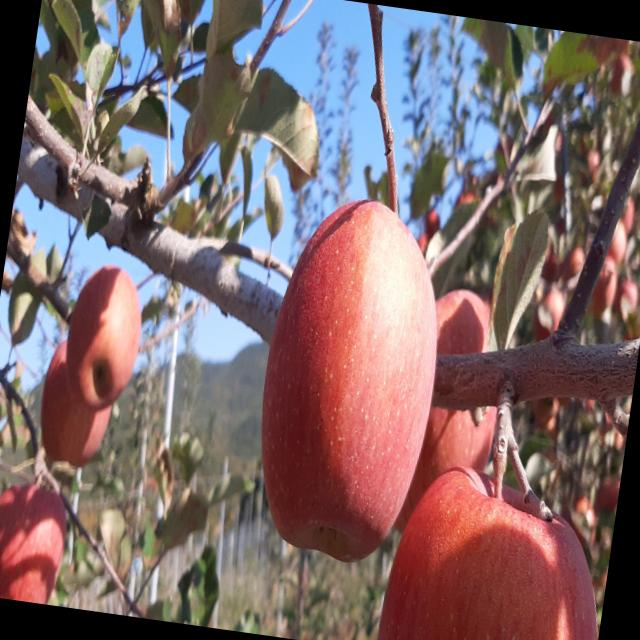fresh: (238, 175, 467, 577)
